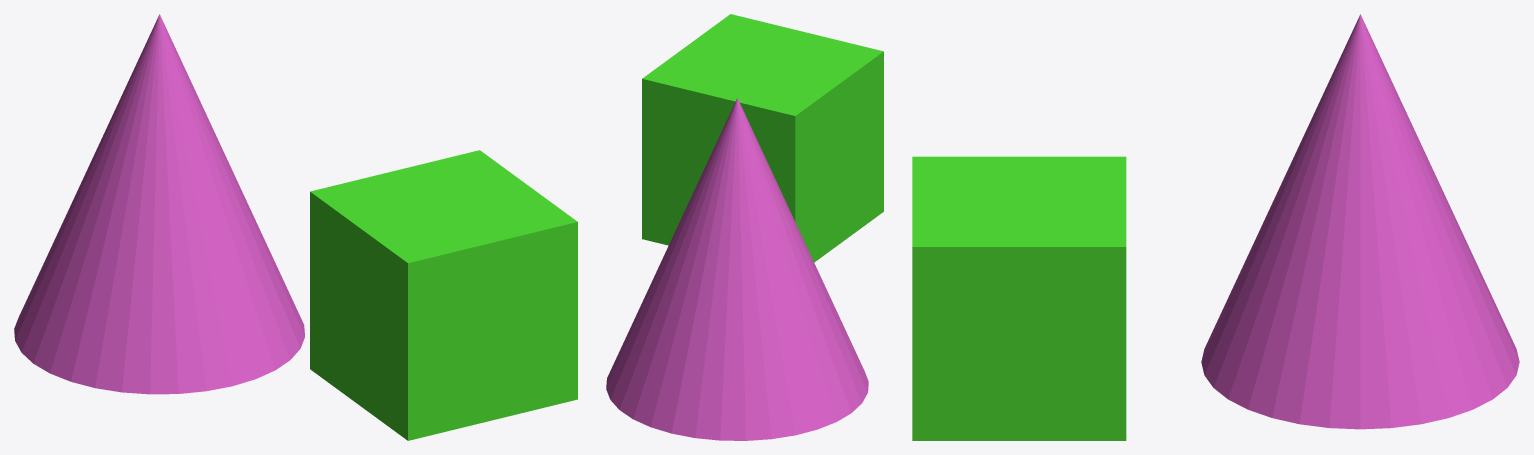
The model's file is practice.glb.
The picture shows the model from 3 angles, left to right: view 1: azimuth 30°, elevation 25°; view 2: azimuth 150°, elevation 25°; view 3: azimuth 270°, elevation 25°; orthographic projection. The views are drawn at different scales.
Parts seen in each view (by area): view 1: Cube, 원뿔; view 2: 원뿔, Cube; view 3: 원뿔, Cube.
Boxes of the visible parts, x1=… form: Cube: x1=310, y1=150, x2=577, y2=440; 원뿔: x1=14, y1=14, x2=304, y2=394; 원뿔: x1=606, y1=98, x2=868, y2=440; Cube: x1=642, y1=14, x2=883, y2=262; 원뿔: x1=1201, y1=14, x2=1519, y2=429; Cube: x1=912, y1=156, x2=1126, y2=440.
Size of the model in its own units: 4 by 3.59 by 5.68.
